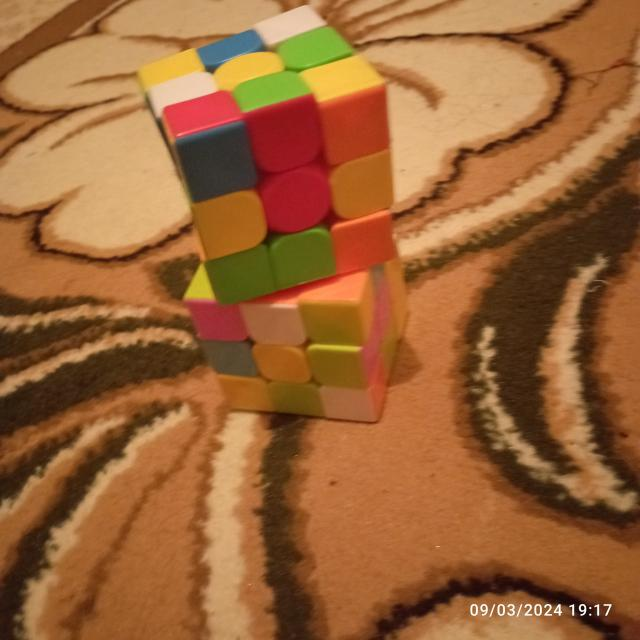Rub: (130, 0, 399, 306), (180, 236, 416, 426)
